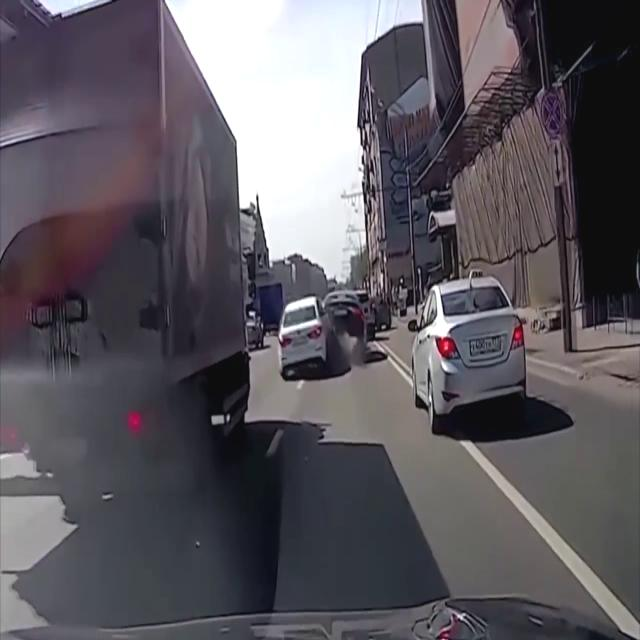accident: (278, 287, 370, 378)
